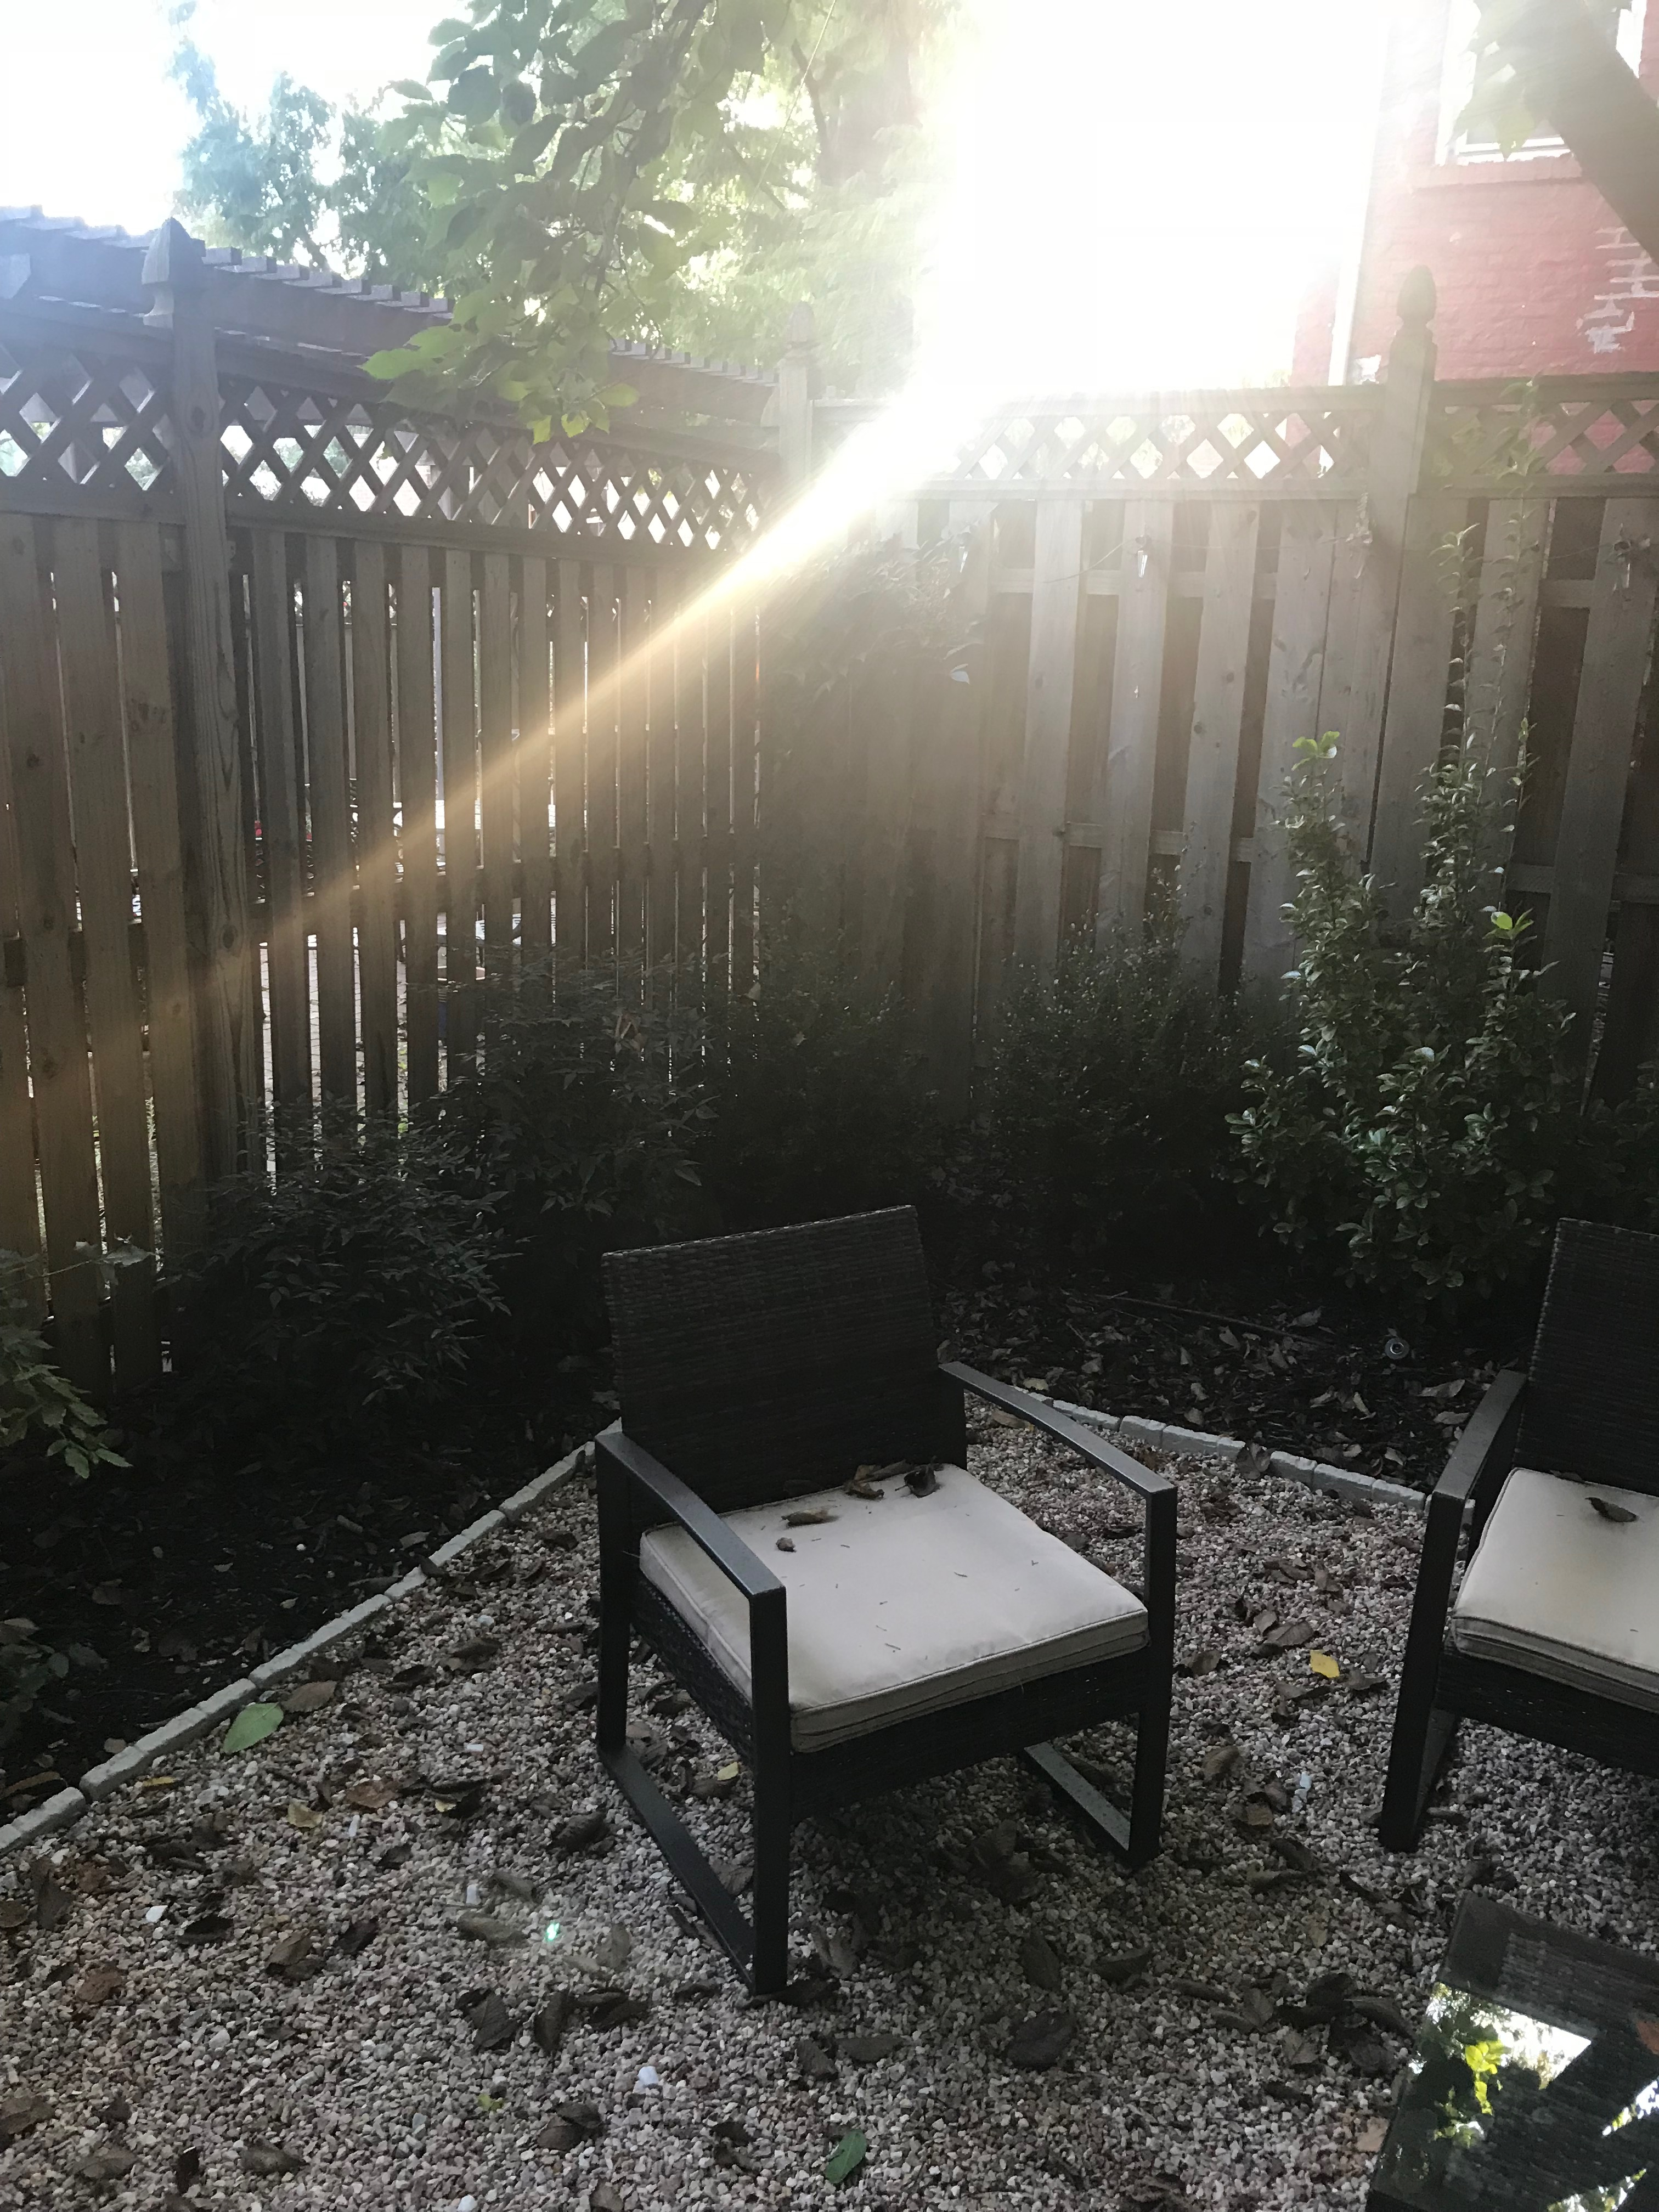flare: (544, 1921, 561, 1942)
